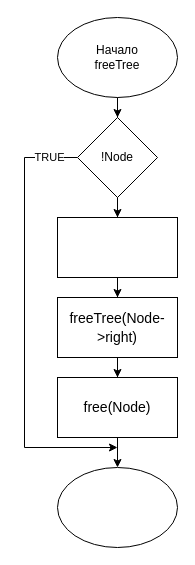
Some shapes in this 195 by 565 pixel diagram are drawn without their labels. The centre of each missing label's shape, as x and y in pixels:
freeTree(Node->left): pixel 117 247
Конец: pixel 117 507
